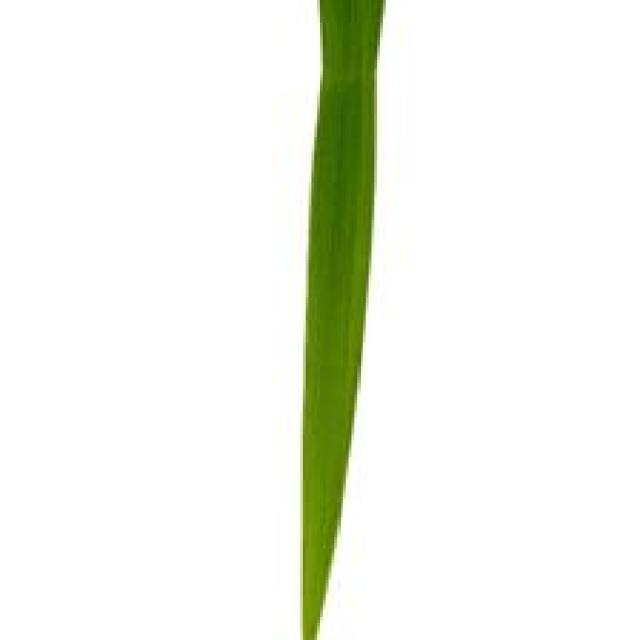Rice___Healthy_Rice_Plant: (301, 1, 385, 637)
